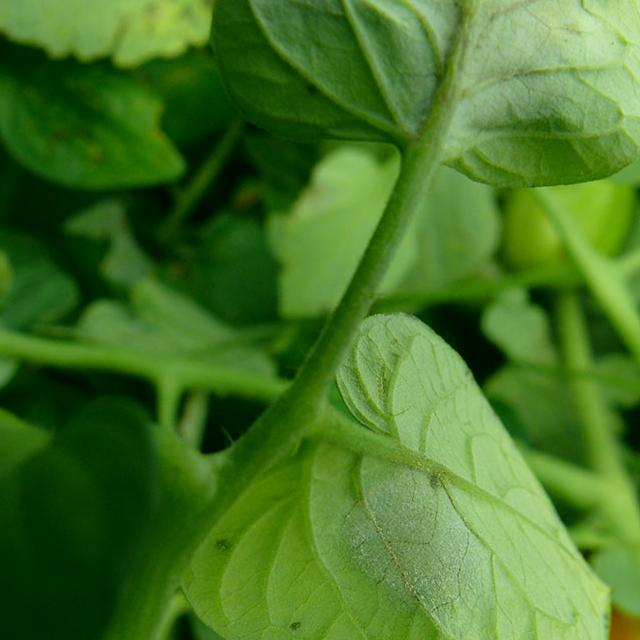Tomato leaf late blight: (176, 302, 610, 640), (163, 0, 640, 184), (193, 639, 640, 640)
